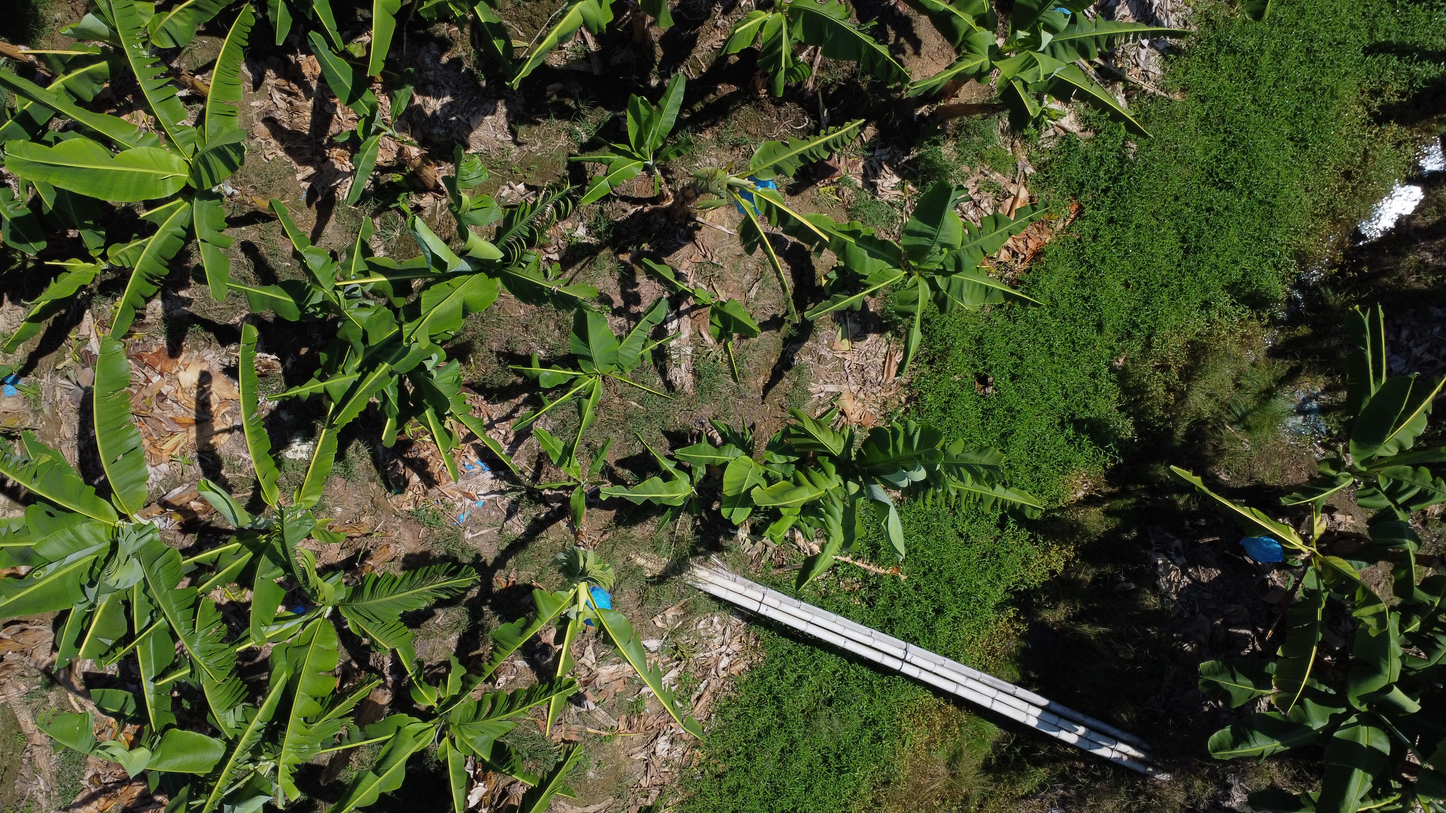panama: (1259, 494, 1355, 589)
